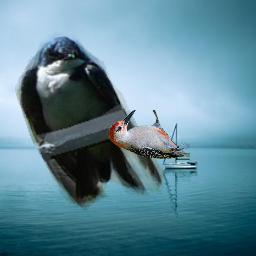Swallow: (15, 32, 168, 216)
Woodpecker: (109, 110, 190, 159)
